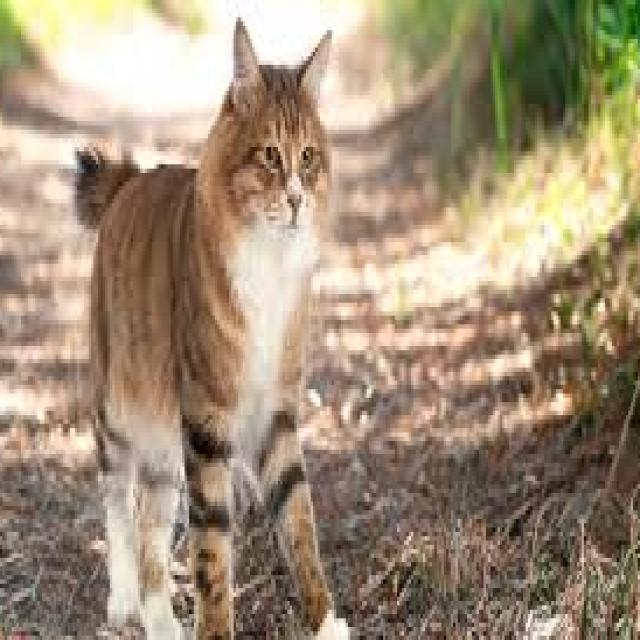American Bobtail: (67, 8, 355, 640)
